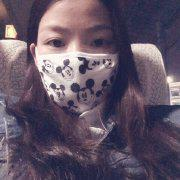OK: (38, 27, 124, 113)
